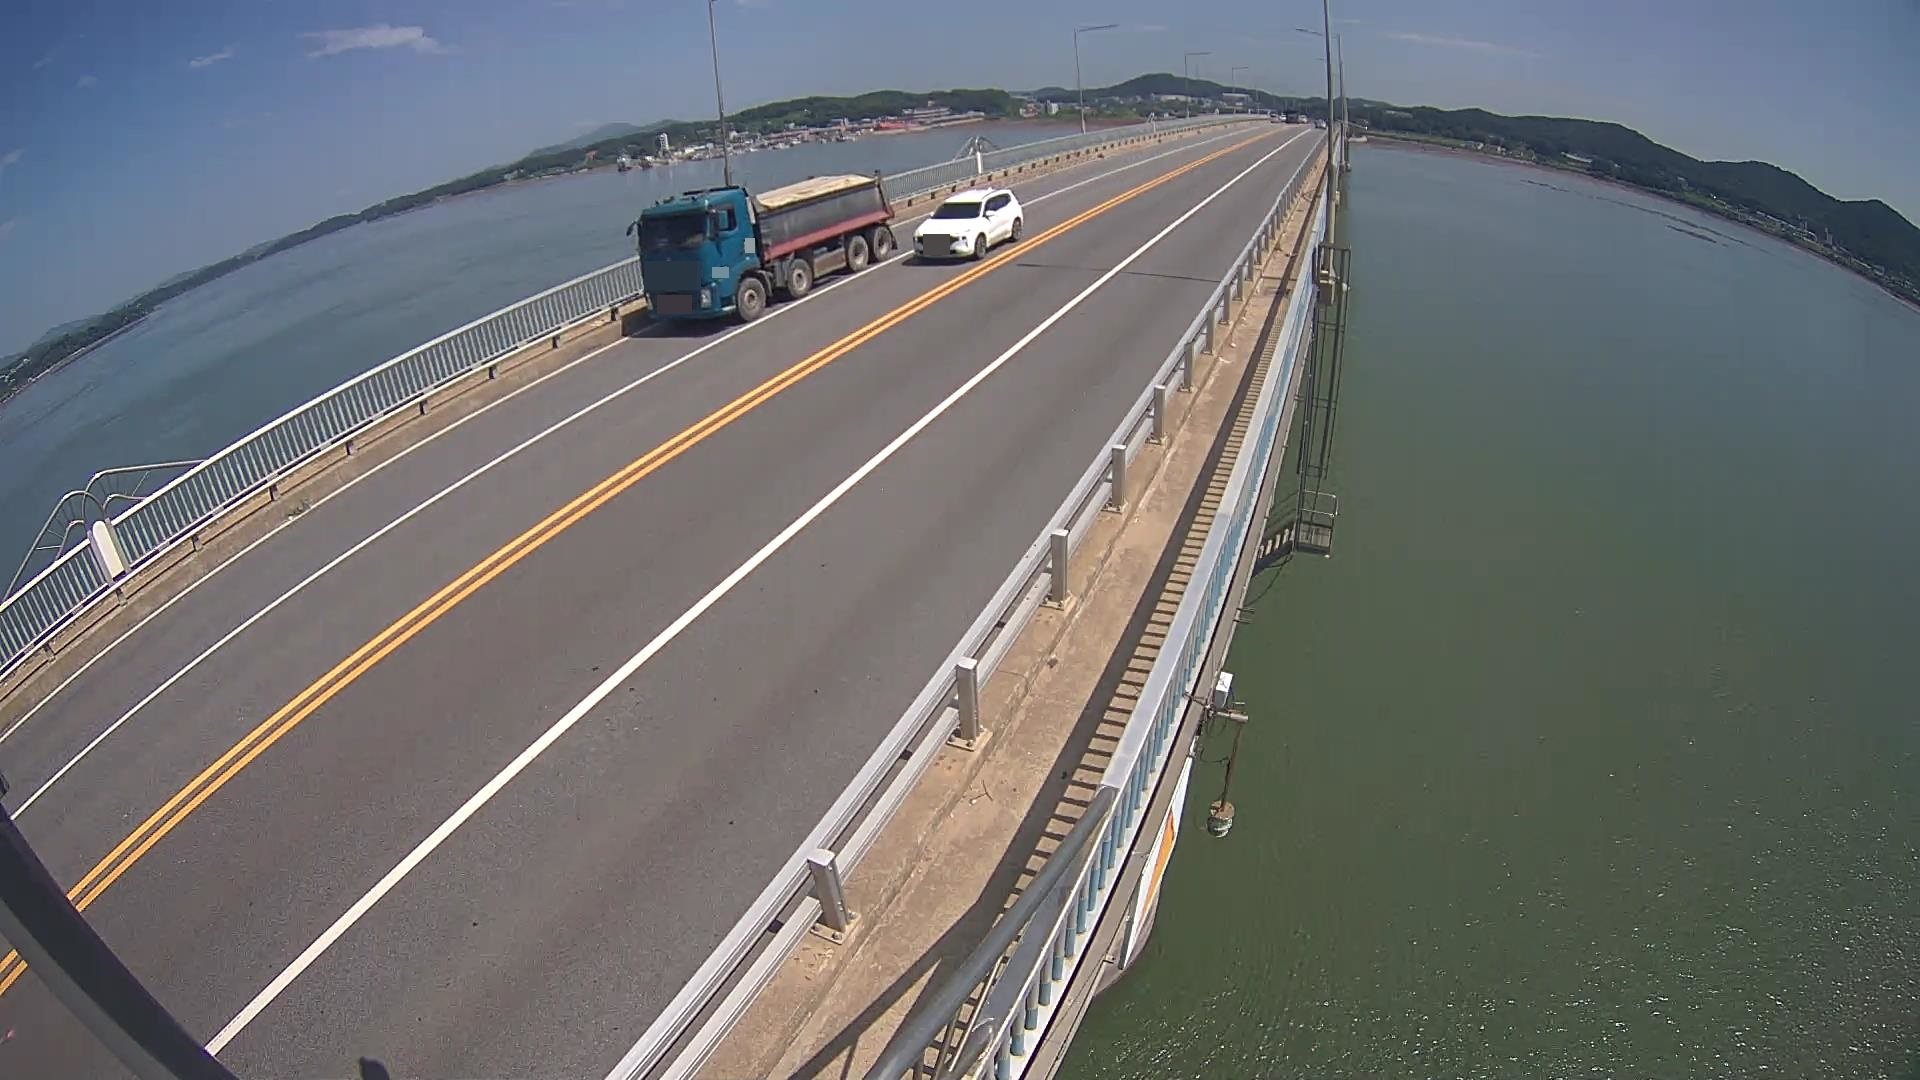정상차량: (626, 169, 898, 322)
